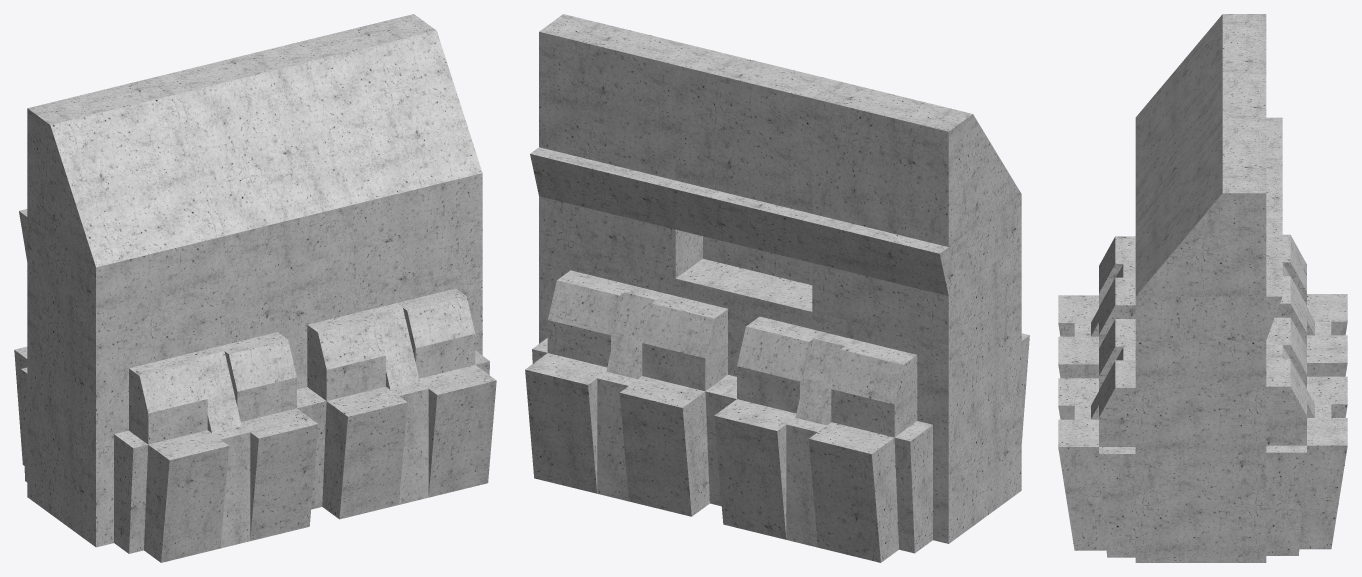
Rendered from BuildingLow8.fbx.
3 renders of one model, left to right at view 1: azimuth 30°, elevation 25°; view 2: azimuth 150°, elevation 25°; view 3: azimuth 270°, elevation 25°, orthographic. The views are drawn at different scales.
Visible parts, largest first — view 1: Cube.000; view 2: Cube.000; view 3: Cube.000.
Boxes of the visible parts, x1,y1,x2,y2 form: Cube.000: [14, 14, 496, 562]; Cube.000: [525, 14, 1029, 562]; Cube.000: [1058, 14, 1347, 562].
Bounding box in the file's own units: 1950 × 1875 × 1331.
